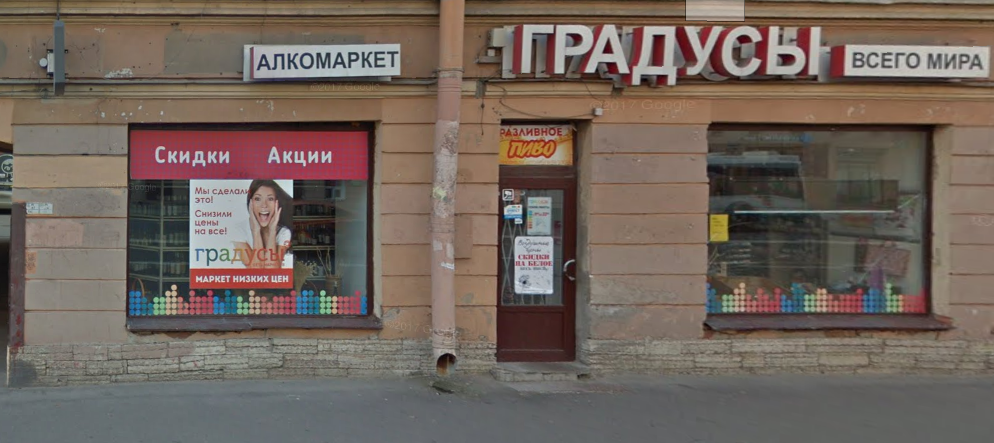cantilever: (38, 13, 76, 97)
door: (494, 170, 577, 367)
signboard: (487, 22, 992, 90), (243, 32, 403, 84)
win_ad: (132, 130, 362, 312)
window: (125, 121, 367, 315), (706, 126, 931, 311)
